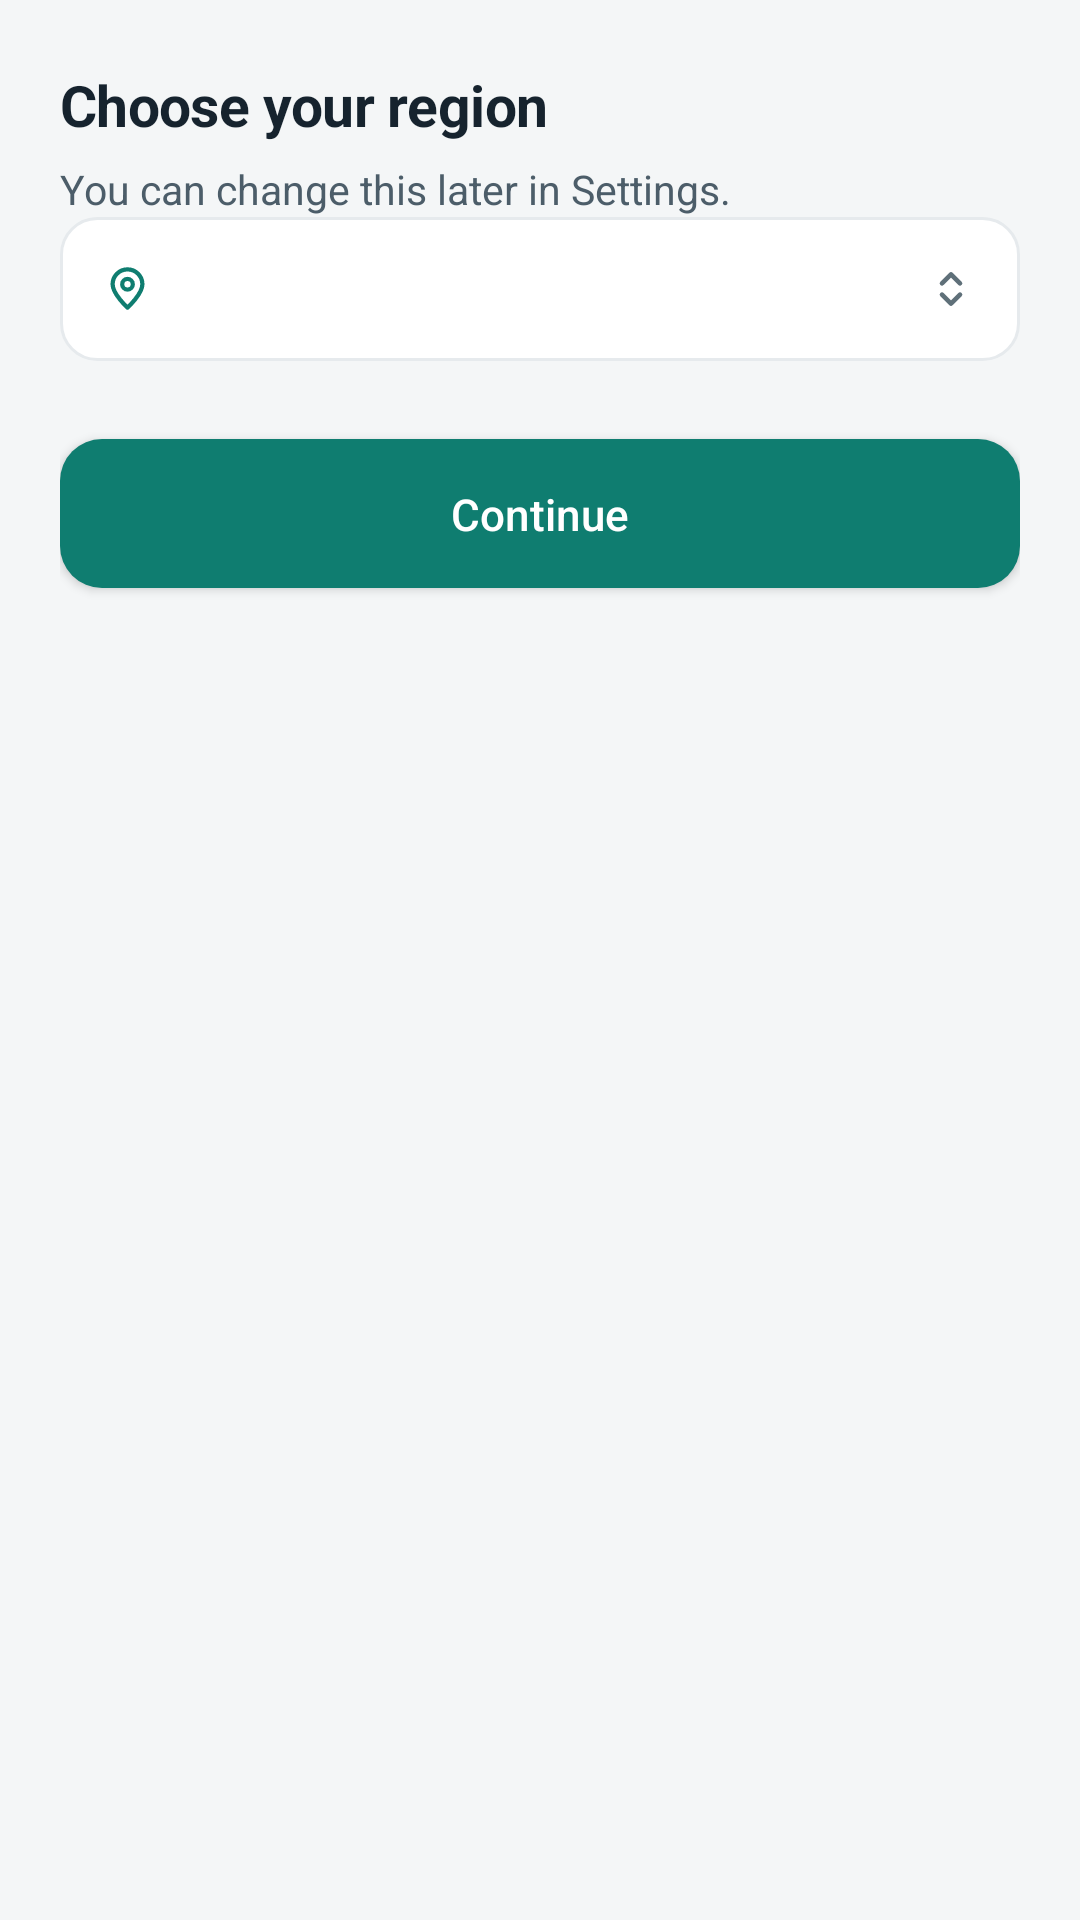

Icon bounding boxes for this 1080px x 1920px phone screenshot, format box=[x1, y1, x2, y2]:
place: box=[110, 267, 145, 310]
unfold more: box=[939, 272, 963, 306]
